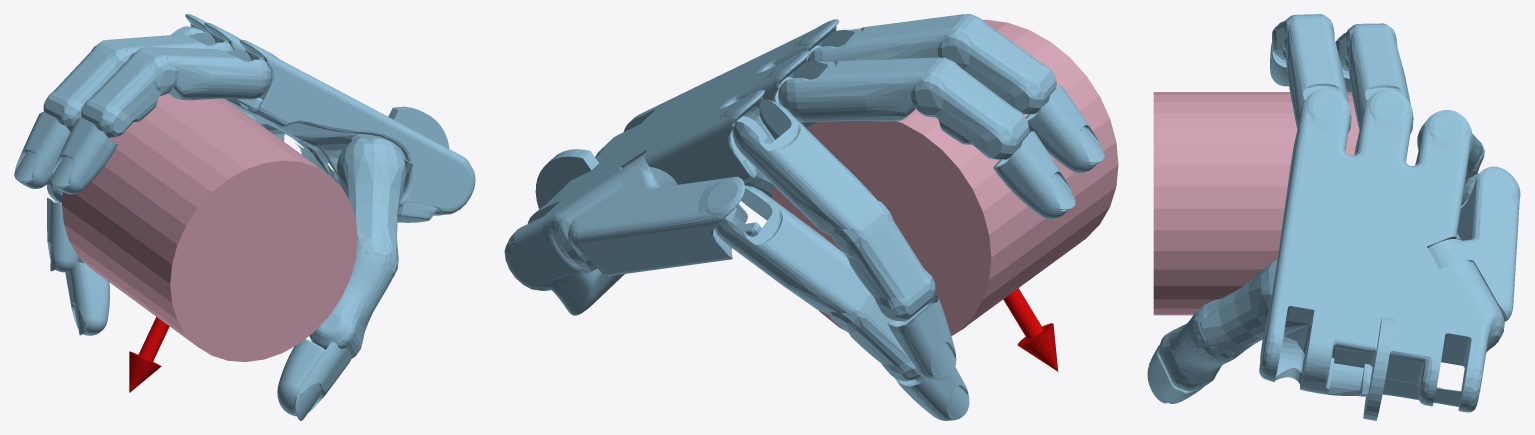
3 renders of one model, left to right at view 1: azimuth 30°, elevation 25°; view 2: azimuth 150°, elevation 25°; view 3: azimuth 270°, elevation 25°, orthographic. The views are drawn at different scales.
Visible parts, largest first — view 1: world, cylinder_medium.stl; view 2: world, cylinder_medium.stl; view 3: world, cylinder_medium.stl.
Part boxes in pixels (x1,y1,x2,y2): world: (14, 14, 475, 420); cylinder_medium.stl: (62, 93, 357, 361); world: (504, 14, 1104, 420); cylinder_medium.stl: (771, 19, 1118, 335); world: (1147, 14, 1520, 420); cylinder_medium.stl: (1153, 92, 1359, 315).
Size of the model in its own units: 0.1886 by 0.1367 by 0.1335.
